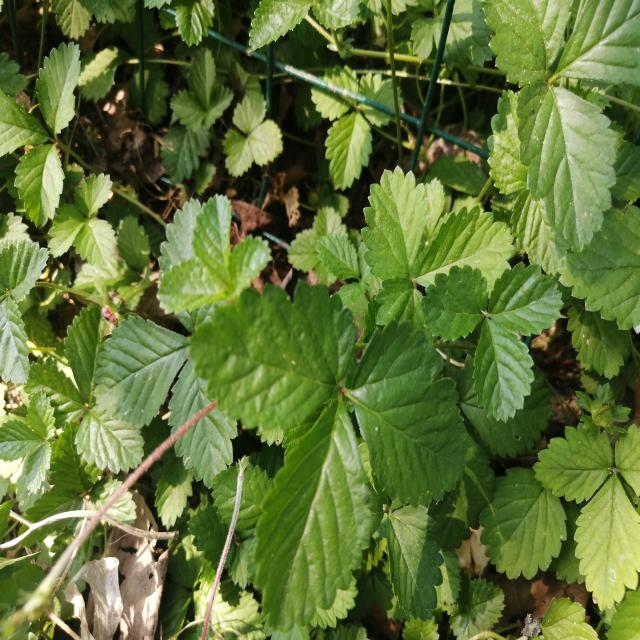Mock_strawberry: (218, 284, 422, 608)
